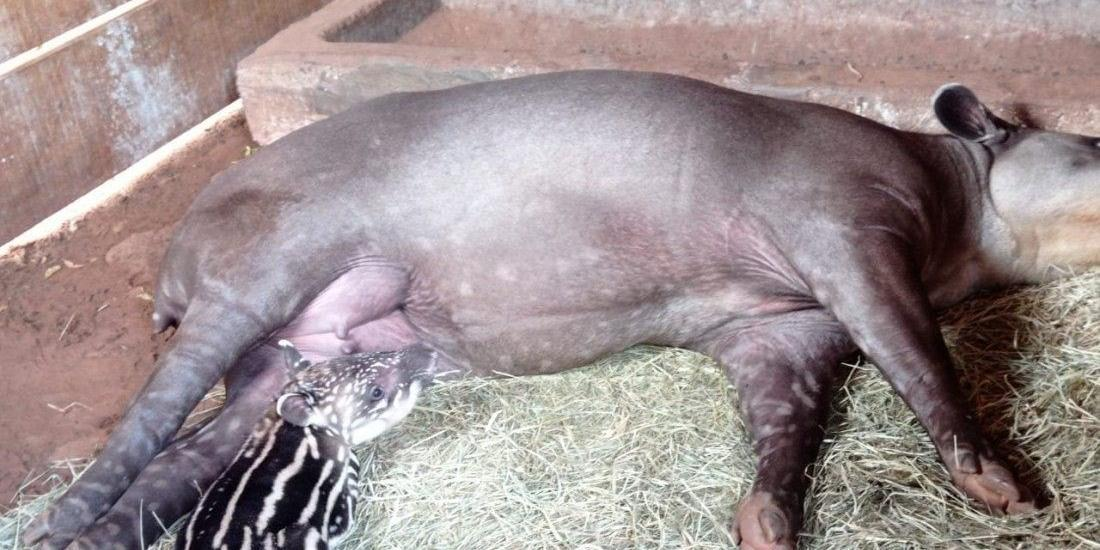Anta: (125, 59, 1086, 533), (168, 348, 429, 547)
